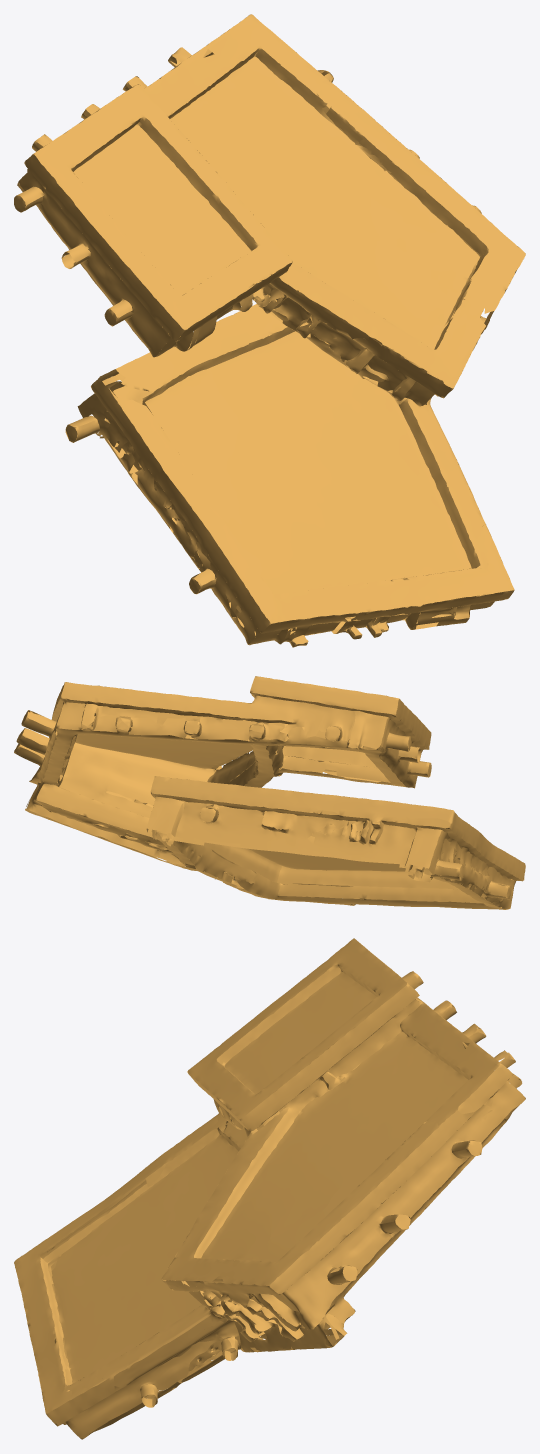
Rendered from buildings_9.fbx.
3 renders of one model, top to bottom at view 1: azimuth 30°, elevation 25°; view 2: azimuth 150°, elevation 25°; view 3: azimuth 270°, elevation 25°, orthographic. The views are drawn at different scales.
Parts seen in each view (by area): view 1: Retopo_image_Stylized_architectural_model_of_a_building_cbca; view 2: Retopo_image_Stylized_architectural_model_of_a_building_cbca; view 3: Retopo_image_Stylized_architectural_model_of_a_building_cbca.
Part boxes in pixels (box(x1,y1,x2,y2)): Retopo_image_Stylized_architectural_model_of_a_building_cbca: box(14, 14, 525, 647); Retopo_image_Stylized_architectural_model_of_a_building_cbca: box(14, 676, 525, 909); Retopo_image_Stylized_architectural_model_of_a_building_cbca: box(14, 938, 525, 1439).
Size of the model in its own units: 2869 by 2535 by 3070.
